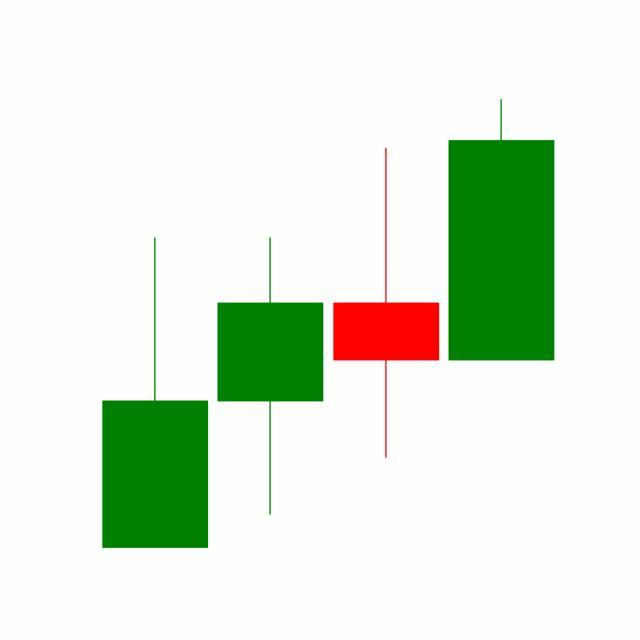Spinning Top: (329, 145, 445, 462)
